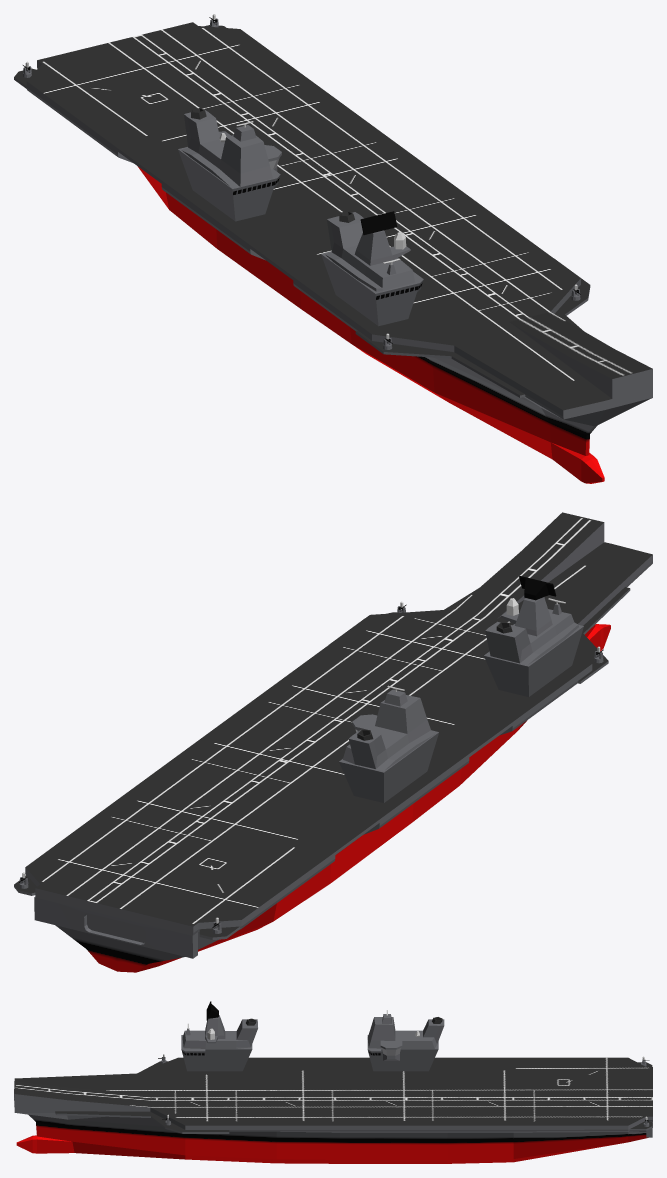
3 renders of one model, top to bottom at view 1: azimuth 30°, elevation 25°; view 2: azimuth 150°, elevation 25°; view 3: azimuth 270°, elevation 25°, orthographic. The views are drawn at different scales.
Visible parts, largest first — view 1: Cube.040, Cube.041, Cube.043; view 2: Cube.040, Cube.043, Cube.041; view 3: Cube.040, Cube.043, Cube.041.
Boxes of the visible parts, x1=… form: Cube.040: x1=14, y1=22, x2=652, y2=483; Cube.041: x1=250, y1=230, x2=328, y2=279; Cube.043: x1=118, y1=132, x2=187, y2=183; Cube.040: x1=14, y1=512, x2=652, y2=972; Cube.043: x1=279, y1=804, x2=379, y2=854; Cube.041: x1=431, y1=706, x2=512, y2=756; Cube.040: x1=14, y1=1014, x2=652, y2=1163; Cube.043: x1=448, y1=1057, x2=514, y2=1073; Cube.041: x1=276, y1=1057, x2=339, y2=1073.
Size of the model in its own units: 6018 by 4836 by 22889.
